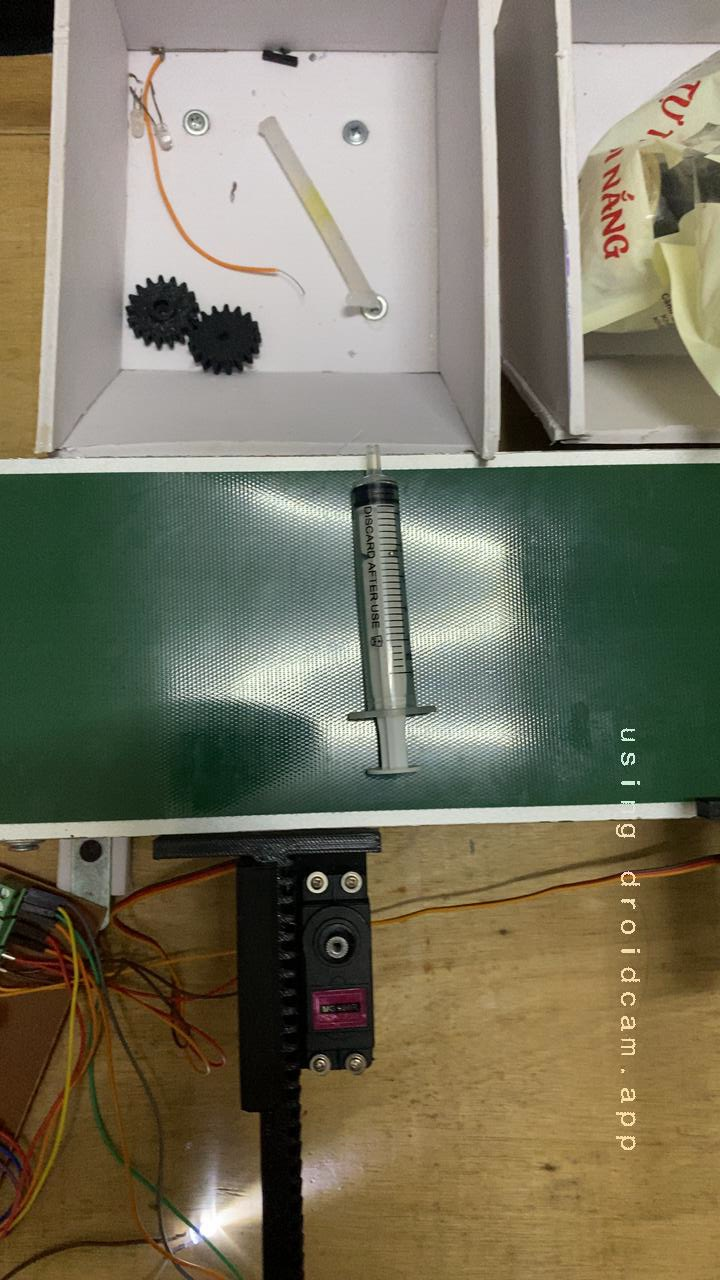syringe: (325, 460, 444, 781)
